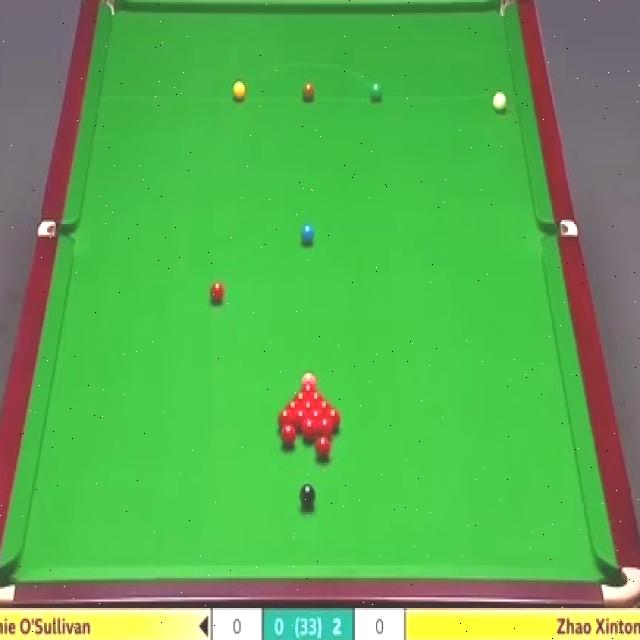black-ball: (300, 484, 314, 508)
blue-ball: (300, 222, 316, 244)
brown-ball: (301, 80, 316, 104)
green-ball: (368, 80, 383, 102)
pink-ball: (301, 372, 319, 386)
red-ball: (209, 280, 225, 305), (282, 424, 297, 448), (316, 435, 330, 459), (318, 400, 332, 423), (326, 407, 341, 428), (302, 420, 316, 441), (277, 411, 293, 429), (294, 410, 308, 430), (310, 411, 322, 432), (326, 420, 338, 441), (285, 401, 301, 410), (301, 403, 318, 409)
white-ball: (491, 90, 507, 114)
yellow-ball: (233, 81, 246, 102)
